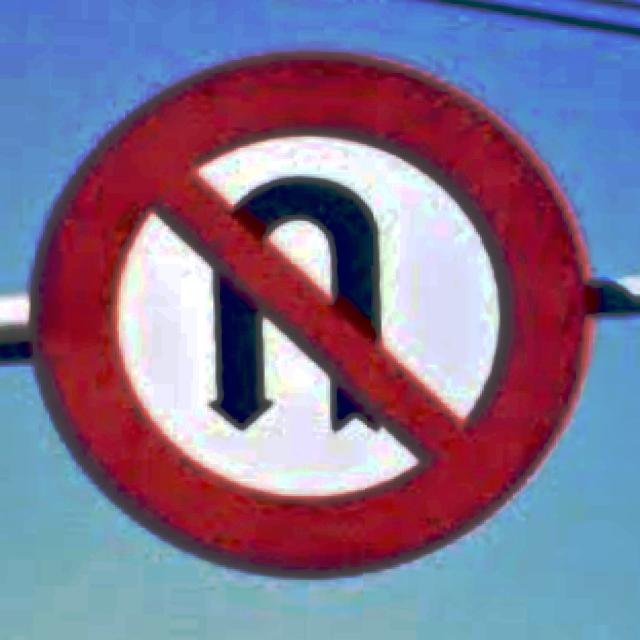nouturn: (31, 52, 593, 576)
